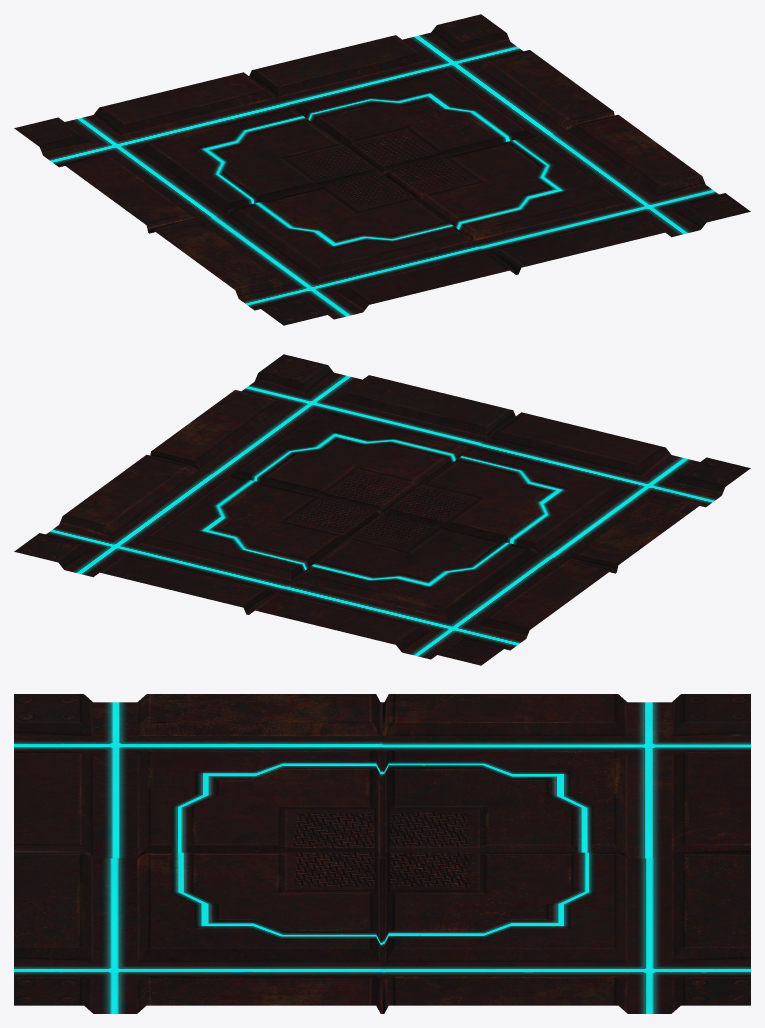
Rendered from ISAResistanceFloor.fbx.
The picture shows the model from 3 angles, top to bottom: view 1: azimuth 30°, elevation 25°; view 2: azimuth 150°, elevation 25°; view 3: azimuth 270°, elevation 25°; orthographic projection. The views are drawn at different scales.
Parts seen in each view (by area): view 1: floorUnity:kiklomaFloor_low_poly; view 2: floorUnity:kiklomaFloor_low_poly; view 3: floorUnity:kiklomaFloor_low_poly.
Part boxes in pixels (x1,y1,x2,y2): floorUnity:kiklomaFloor_low_poly: (14, 14, 750, 325); floorUnity:kiklomaFloor_low_poly: (14, 354, 750, 665); floorUnity:kiklomaFloor_low_poly: (14, 694, 750, 1013).
Size of the model in its own units: 400 by 5.01 by 400.
